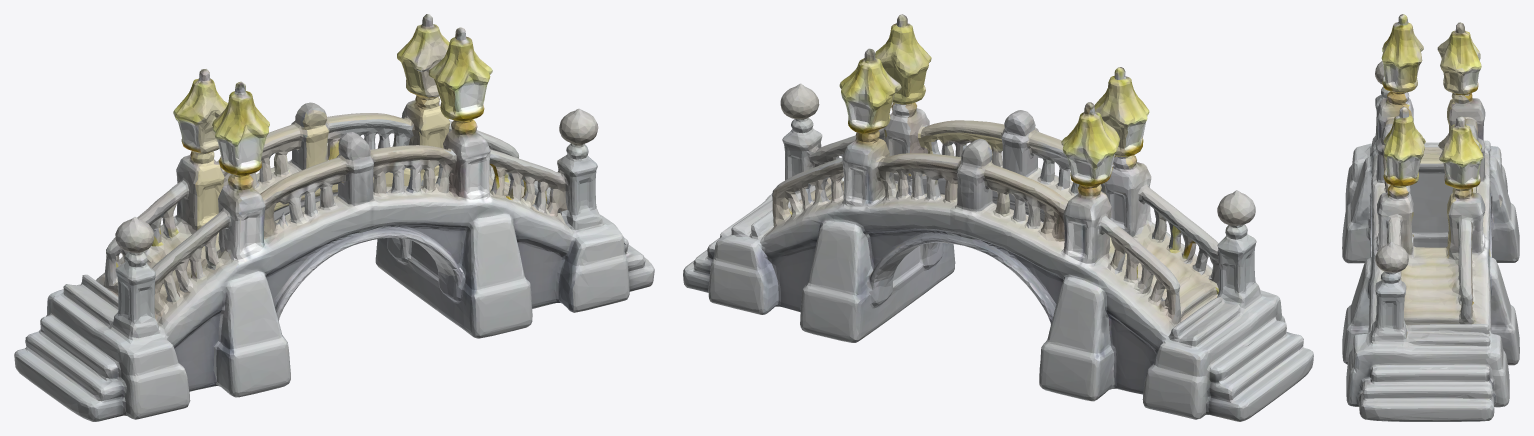
Rendered from ornate_stone_arch_bridge.glb.
3 views of the same model, side by side, from view 1: azimuth 30°, elevation 25°; view 2: azimuth 150°, elevation 25°; view 3: azimuth 270°, elevation 25° (orthographic). The views are drawn at different scales.
Parts seen in each view (by area): view 1: tmpfyc0qp64.ply; view 2: tmpfyc0qp64.ply; view 3: tmpfyc0qp64.ply.
Boxes of the visible parts, box(x1,y1,x2,y2) form: tmpfyc0qp64.ply: box(14, 14, 654, 421); tmpfyc0qp64.ply: box(683, 14, 1313, 421); tmpfyc0qp64.ply: box(1342, 14, 1519, 421).
Bounding box in the file's own units: 1.99 × 0.9468 × 0.6228.
Materials: 1 (1 with a texture image).
